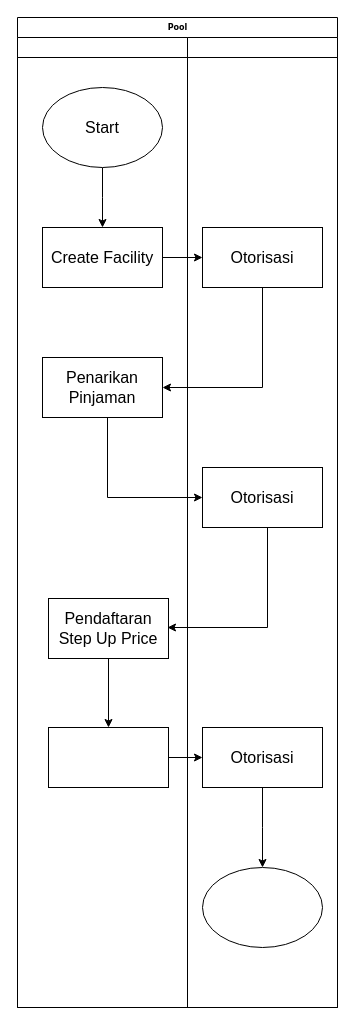
This 355x1025 diagram has some shape labels left out. The box of each missing label's shape, as (x1, y1, x2, y2) in pixels:
End: (202, 866, 322, 948)
Legal Admin: (16, 36, 188, 1008)
Supervisor: (186, 36, 338, 1008)
Upload Repayment Schedule: (48, 726, 168, 788)
